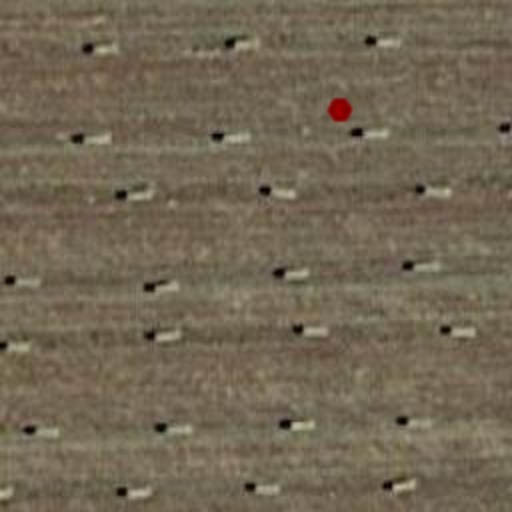hexagon: (324, 94, 356, 126)
